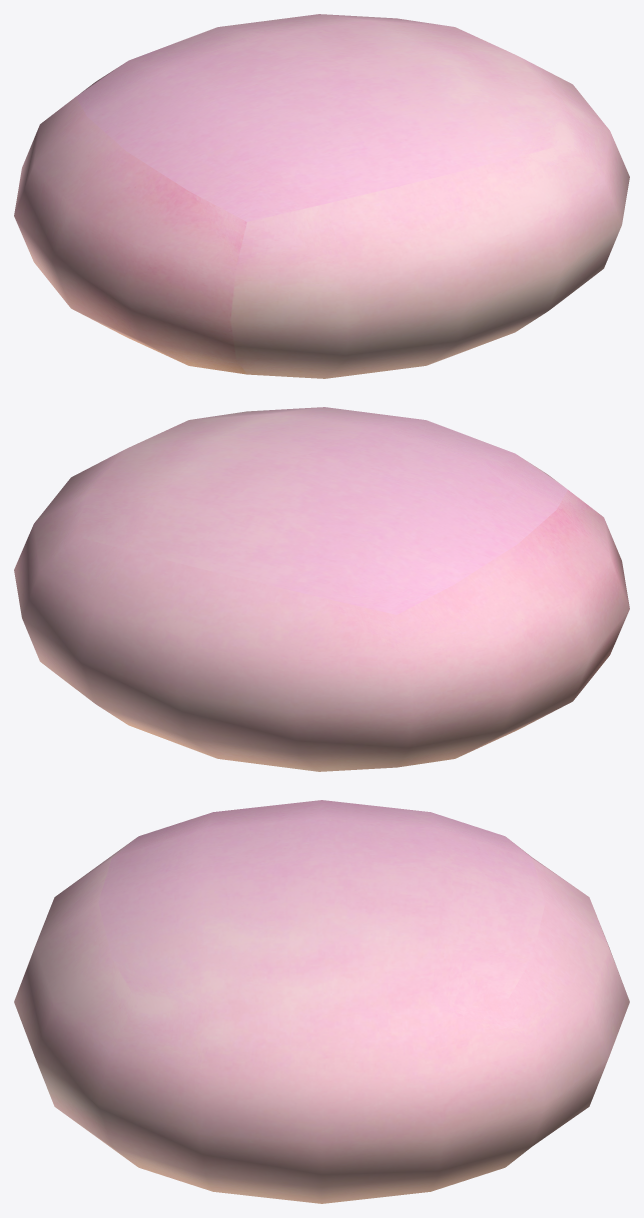
The picture shows the model from 3 angles, top to bottom: view 1: azimuth 30°, elevation 25°; view 2: azimuth 150°, elevation 25°; view 3: azimuth 270°, elevation 25°; orthographic projection. The views are drawn at different scales.
Parts seen in each view (by area): view 1: Cube; view 2: Cube; view 3: Cube.
Boxes of the visible parts, <box> form: Cube: <box>14,14,629,378</box>; Cube: <box>14,407,629,771</box>; Cube: <box>14,800,629,1203</box>.
Size of the model in its own units: 39.55 by 17.96 by 36.53.
Materials: 1 (1 with a texture image).
